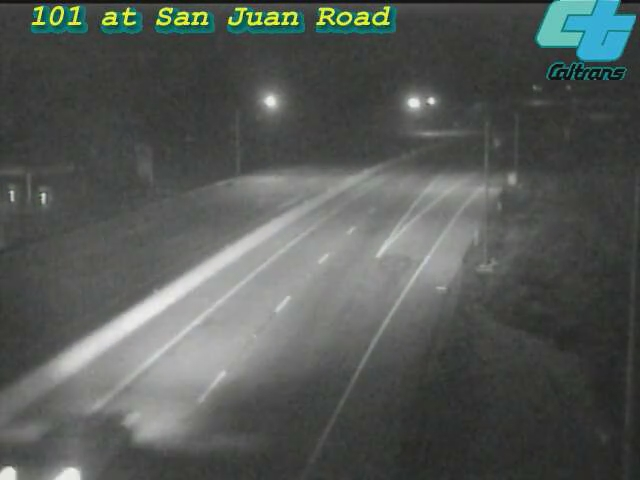vehicle: (13, 398, 123, 480)
